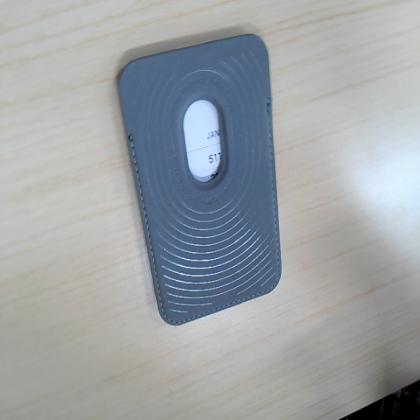pics: (119, 35, 281, 325)
